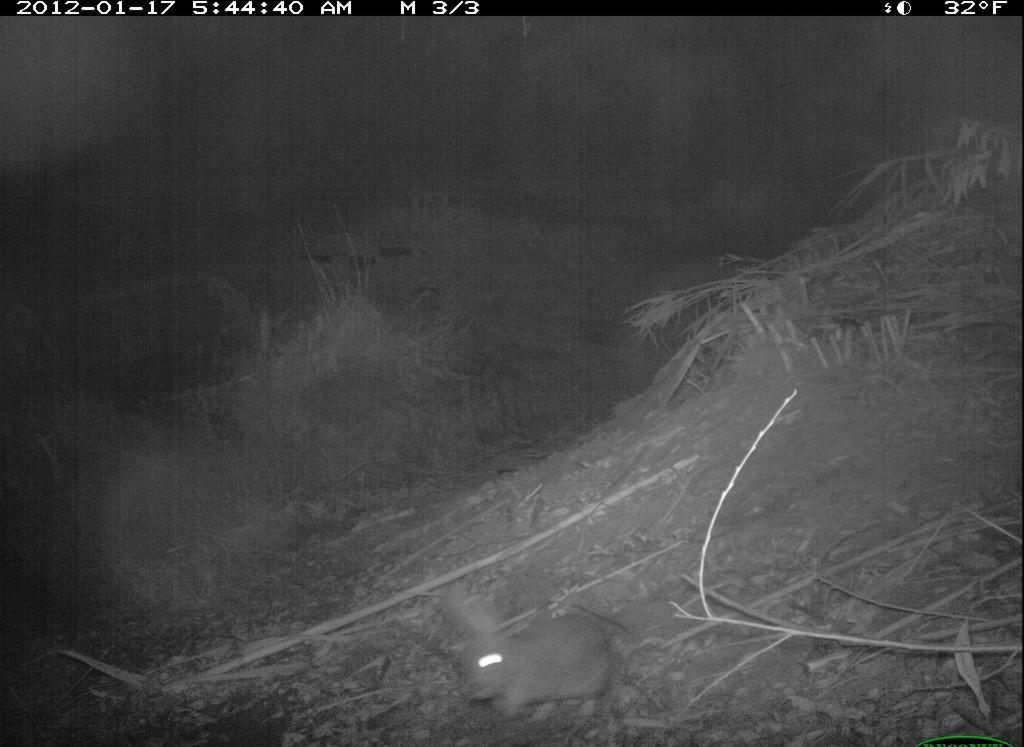rabbit: (434, 575, 625, 725)
